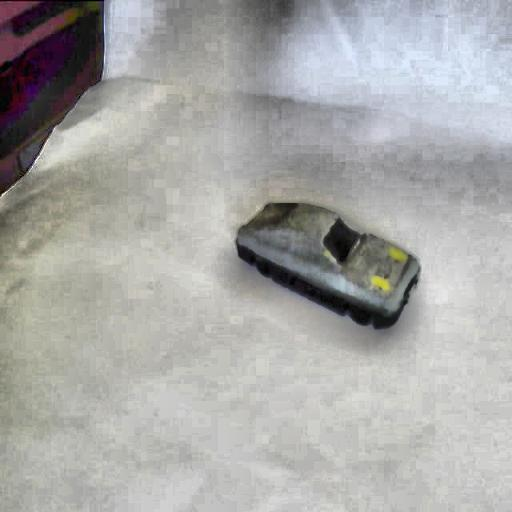normal_car: (233, 196, 421, 330)
